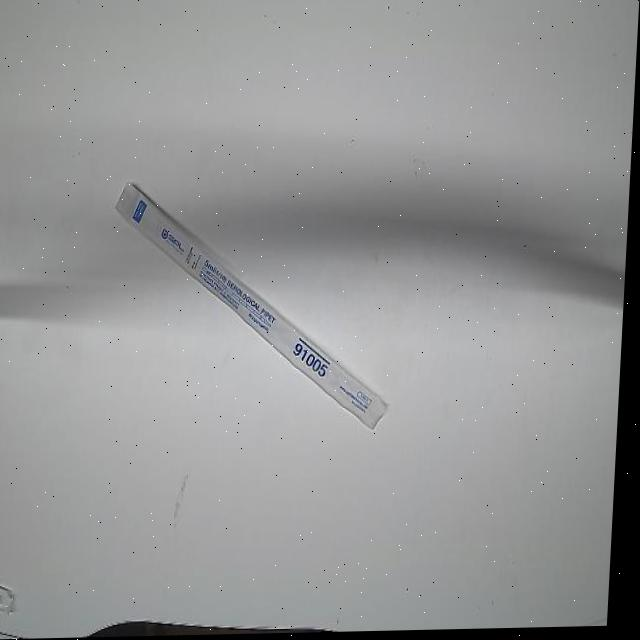Serelogical Pipet 5 mL - Sealed: (107, 162, 404, 441)
